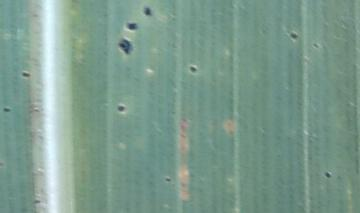tarspot: (119, 37, 132, 54), (125, 22, 138, 31), (143, 5, 152, 16), (289, 30, 298, 41), (21, 70, 31, 78), (188, 66, 198, 73), (3, 105, 11, 113), (324, 171, 331, 179), (313, 41, 319, 50), (118, 104, 125, 111), (33, 199, 41, 204), (166, 177, 171, 183), (1, 160, 4, 168)
